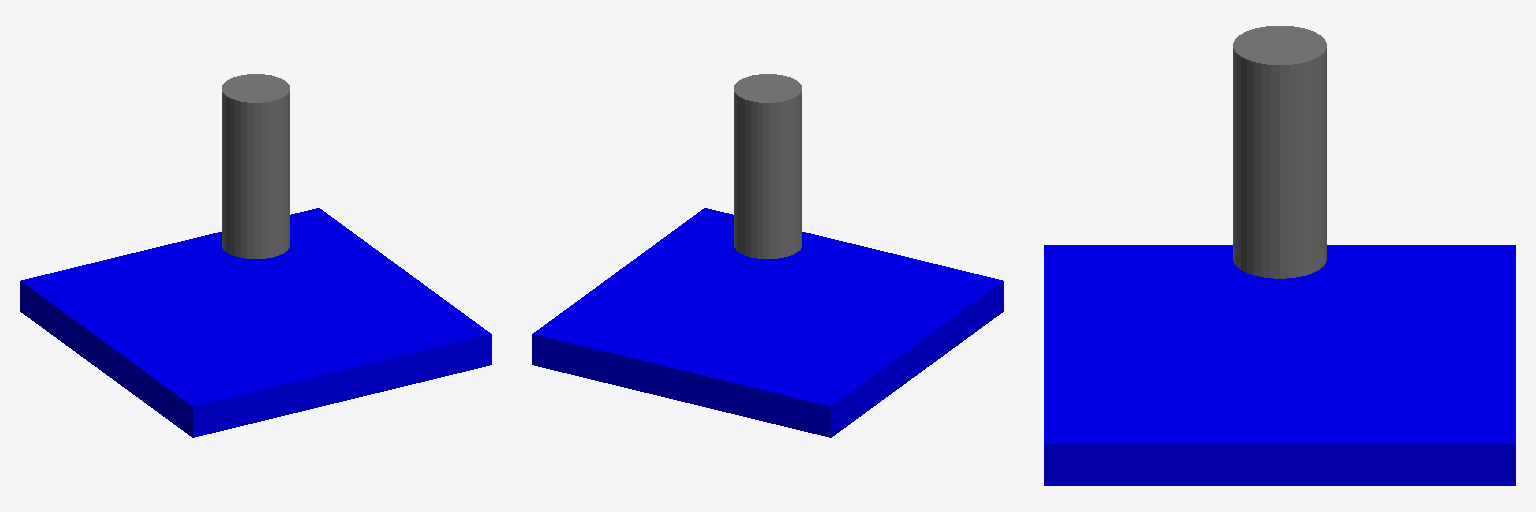
URDF robot description (example_robot):
<?xml version="1.0"?>
<robot name="example_robot">
  <!-- Define the base frame -->
  <link name="base_link">
    <visual>
      <geometry>
        <box size="1 1 0.1"/>
      </geometry>
      <material name="blue">
        <color rgba="0.0 0.0 1.0 1.0"/>
      </material>
    </visual>
  </link>

  <!-- A child link -->
  <link name="ship_center">
    <visual>
      <geometry>
        <cylinder length="0.5" radius="0.1"/>
      </geometry>
      <material name="gray">
        <color rgba="0.5 0.5 0.5 1.0"/>
      </material>
    </visual>
  </link>

  <!-- Joint to connect links -->
  <joint name="base_to_lidar" type="fixed">
    <parent link="base_link"/>
    <child link="ship_center"/>
    <origin xyz="0 0 0.5" rpy="0 0 0"/>
  </joint>
</robot>

--- Facts derived from the render (not from the file) ---
Views: 3 orthographic renders of the robot side by side, from view 1: azimuth 30°, elevation 25°; view 2: azimuth 150°, elevation 25°; view 3: azimuth 270°, elevation 25°.
Model example_robot with 2 links and 1 joints (1 fixed), rooted at base_link, posed all joints at 0.
Links seen in each view (by area): view 1: base_link, ship_center; view 2: base_link, ship_center; view 3: base_link, ship_center.
Boxes of the visible links, x1,y1,x2,y2 form: base_link: (20,208,491,437); ship_center: (222,74,289,258); base_link: (532,208,1003,437); ship_center: (734,74,801,258); base_link: (1044,245,1515,485); ship_center: (1233,26,1326,278).
Bounding box of the posed robot: 1 × 1 × 0.8 m (x, y, z).
Geometry: primitives only (box / cylinder / sphere), no mesh files.
